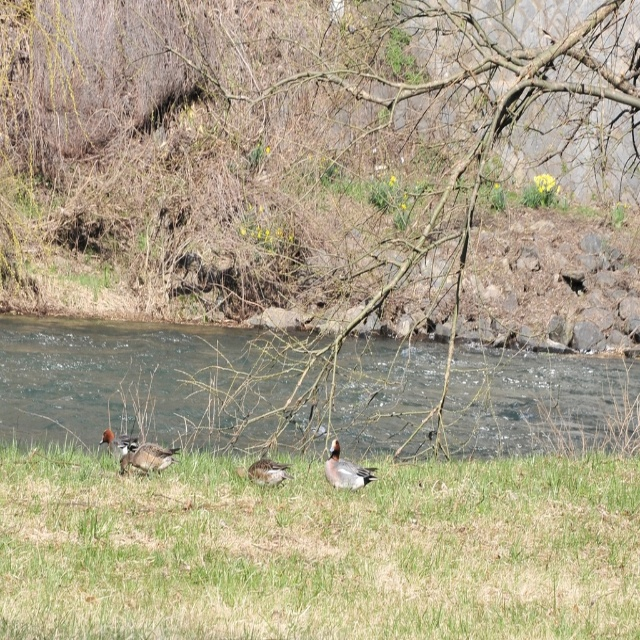Duck: (326, 437, 384, 502), (116, 443, 182, 488), (98, 427, 146, 472), (242, 456, 297, 488)
